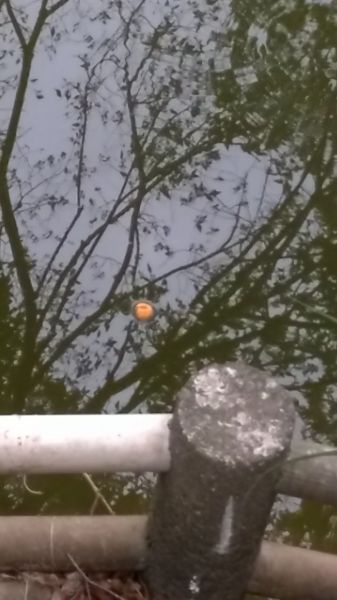eggs: (131, 300, 156, 321)
